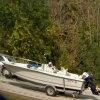Boat: (0, 45, 87, 98)
